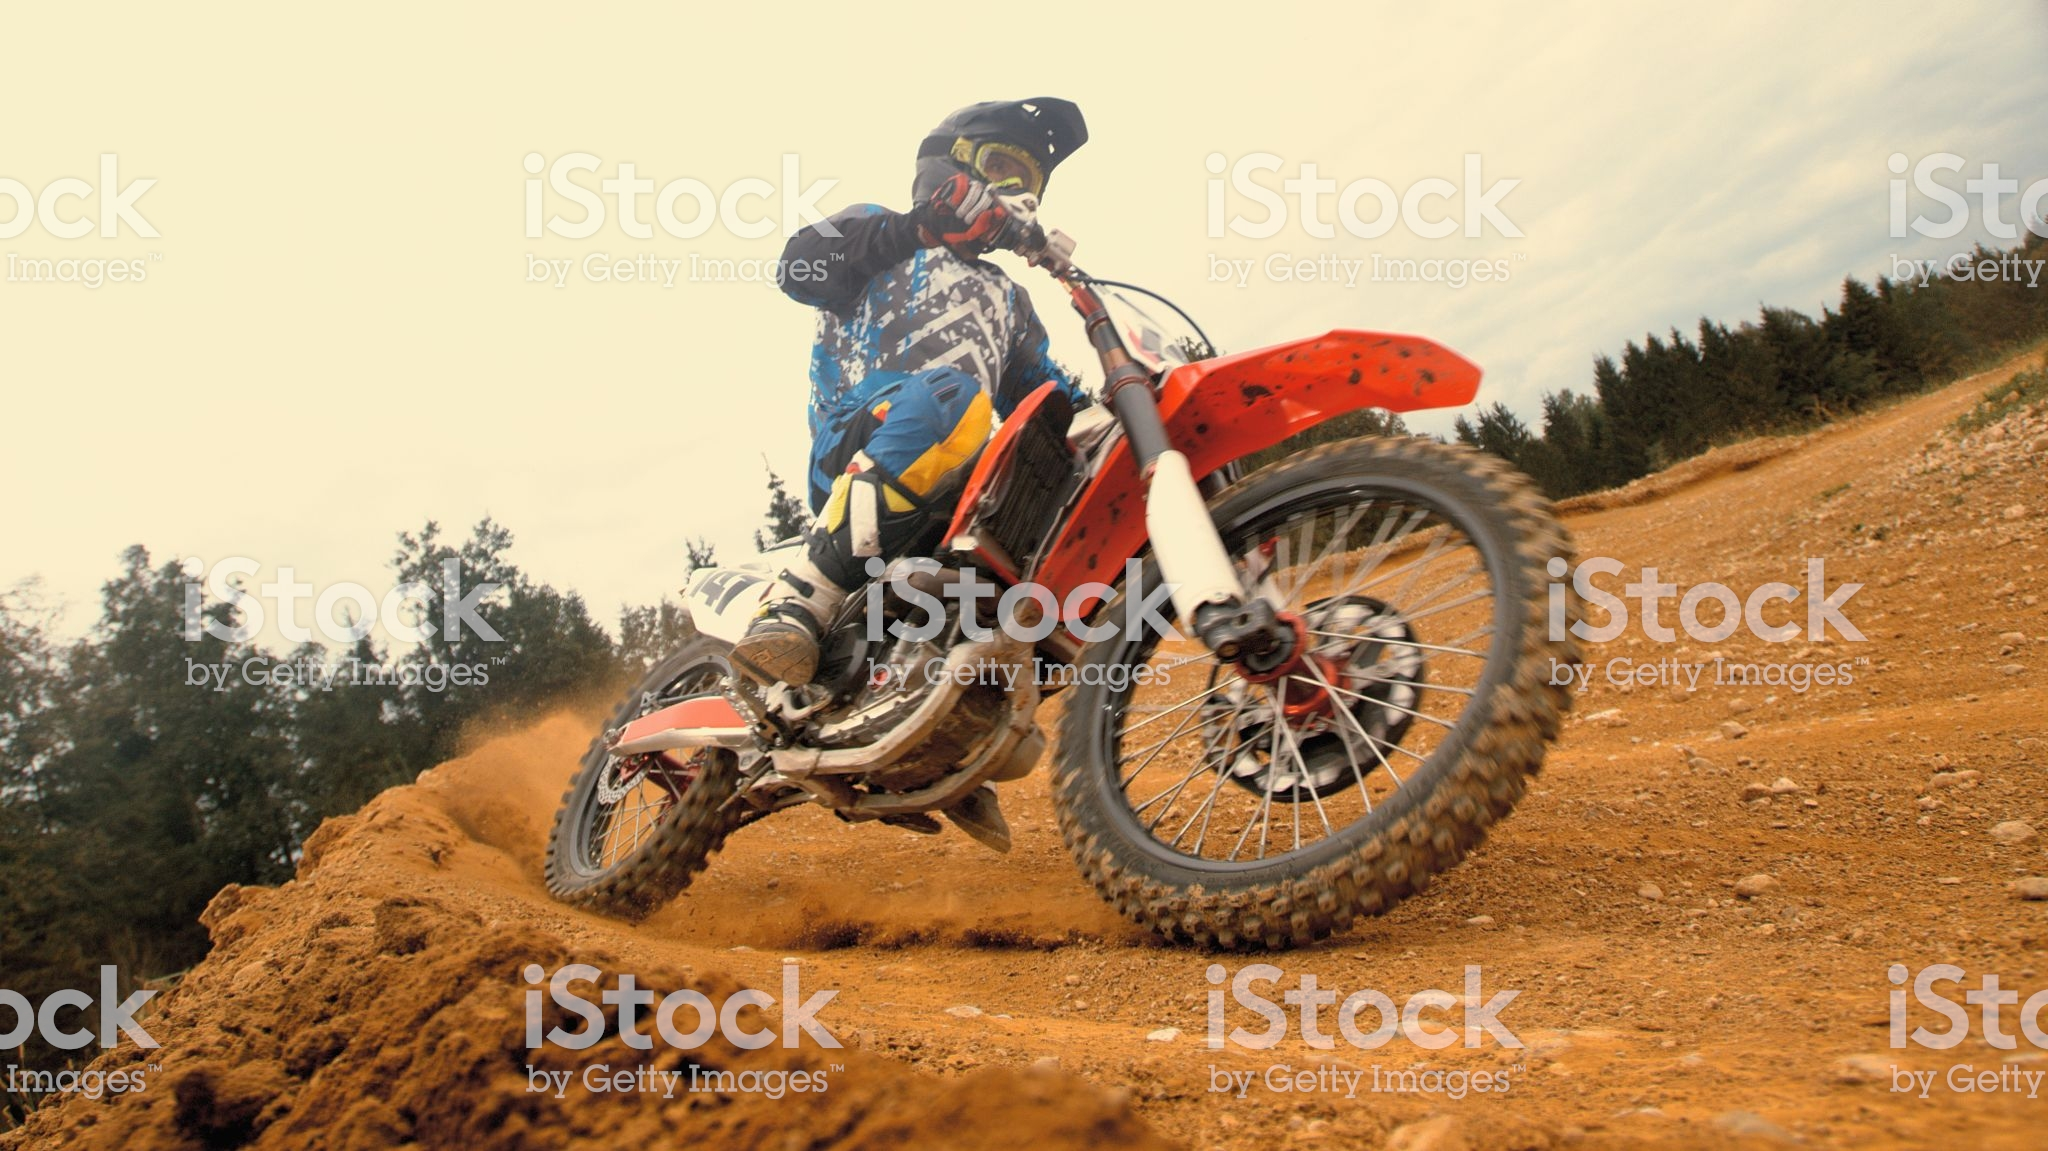helmet: (899, 98, 1108, 232)
